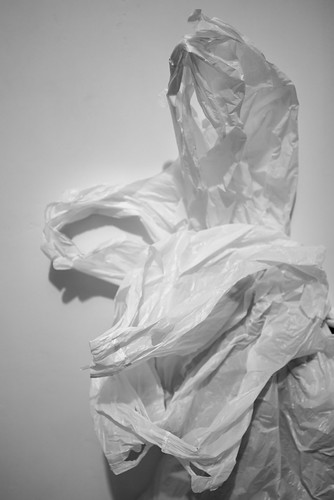plastic bag: (40, 8, 333, 499)
